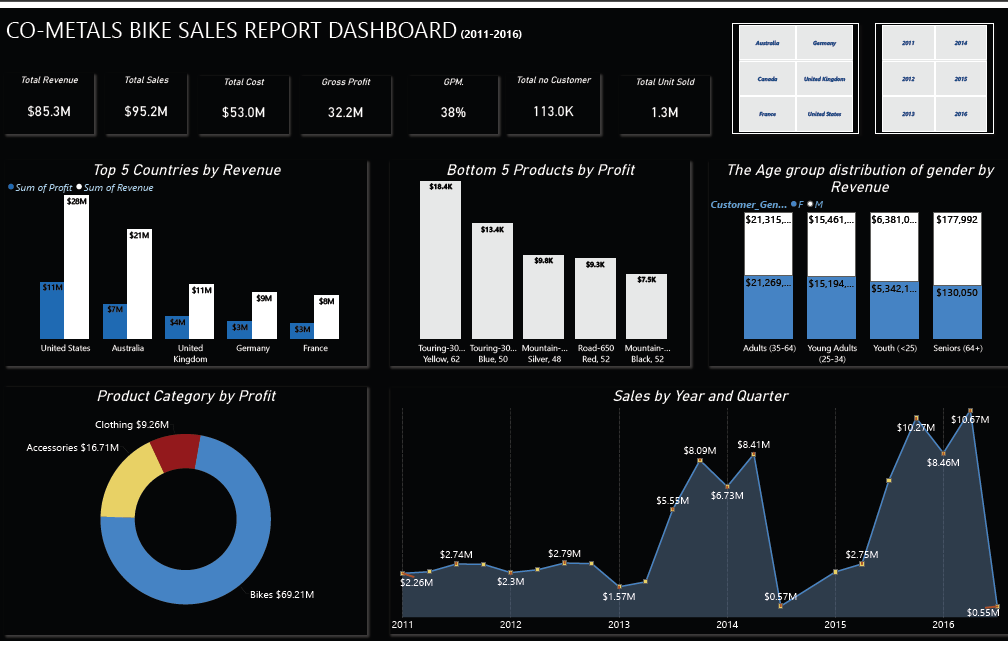

The dashboard page shown, as its layout file describes it:
{"tool":"powerbi","page":{"name":"DASHBOARD 1","canvas":[4000,2500],"ordinal":0},"visuals":[{"type":"textbox","box":[30,16.7,2166.7,193.3],"z":0},{"type":"card","title":"Total Revenue","fields":{"Values":["Sum(DATASET.Revenue)"]},"box":[30,260,350,236.7],"z":1000},{"type":"card","title":"Total Sales","fields":{"Values":["Sum(DATASET.Total Sales)"]},"box":[430,260,316.7,236.7],"z":2000},{"type":"card","title":"Total Unit Sold","fields":{"Values":["Sum(DATASET.Order_Quantity)"]},"box":[2460,270,353.3,226.7],"z":3000},{"type":"card","title":"Total Cost","fields":{"Values":["Sum(DATASET.Total Cost)"]},"box":[796.7,270,353.3,226.7],"z":4000},{"type":"card","title":"GPM.","fields":{"Values":["DATASET.Gross Profit Margin"]},"box":[1626.7,270,350,226.7],"z":5000},{"type":"card","title":"Total no Customer","fields":{"Values":["CountNonNull(DATASET.Customer_Gender)"]},"box":[2013.3,260,366.7,236.7],"z":6000},{"type":"card","title":"Gross Profit","fields":{"Values":["DATASET.Gross Profit"]},"box":[1200,270,353.3,226.7],"z":7000},{"type":"clusteredColumnChart","title":"Top 5 Countries by Revenue","fields":{"Category":["DATASET.Country"],"Y":["Sum(DATASET.Profit)","Sum(DATASET.Revenue)"]},"box":[33.3,603.3,1426.7,810],"z":8000},{"type":"hundredPercentStackedColumnChart","title":"The Age group distribution of gender by Revenue ","fields":{"Y":["Sum(DATASET.Revenue)"],"Category":["DATASET.Age_Group"],"Series":["DATASET.Customer_Gender"]},"box":[2813.3,603.3,1186.7,810],"z":9000},{"type":"slicer","fields":{"Values":["DATASET.Year"]},"box":[3470,60,465,435],"z":10000},{"type":"lineChart","title":"Sales by Year and Quarter ","fields":{"Y":["Sum(DATASET.Total Sales)"],"Category":["DATASET.Date.Variation.Date Hierarchy.Year","DATASET.Date.Variation.Date Hierarchy.Quarter"]},"box":[1553.3,1496.7,2446.7,976.7],"z":11000},{"type":"slicer","fields":{"Values":["DATASET.Country"]},"box":[2905,60,500,435],"z":12000},{"type":"clusteredColumnChart","title":"Bottom 5 Products by Profit","fields":{"Y":["Sum(DATASET.Profit)"],"Category":["DATASET.Product"]},"box":[1553.3,603.3,1183.3,810],"z":13000},{"type":"donutChart","title":"Product Category by Profit","fields":{"Category":["DATASET.Product_Category"],"Y":["Sum(DATASET.Total Sales)"]},"box":[30,1496.7,1430,976.7],"z":14000}]}

Visuals, with their boxes in screenshot pixels (x1, y1, x2, y2), scaled from the page's 4000x2500 canvas onto the 1008x645 screenshot:
textbox: 8/4/554/54
"Total Revenue" card: 8/67/96/128
"Total Sales" card: 108/67/188/128
"Total Unit Sold" card: 620/70/709/128
"Total Cost" card: 201/70/290/128
"GPM." card: 410/70/498/128
"Total no Customer" card: 507/67/600/128
"Gross Profit" card: 302/70/391/128
"Top 5 Countries by Revenue" clusteredColumnChart: 8/156/368/365
"The Age group distribution of gender by Revenue " hundredPercentStackedColumnChart: 709/156/1007/365
slicer - DATASET.Year: 874/15/992/128
"Sales by Year and Quarter " lineChart: 391/386/1007/638
slicer - DATASET.Country: 732/15/858/128
"Bottom 5 Products by Profit" clusteredColumnChart: 391/156/690/365
"Product Category by Profit" donutChart: 8/386/368/638
